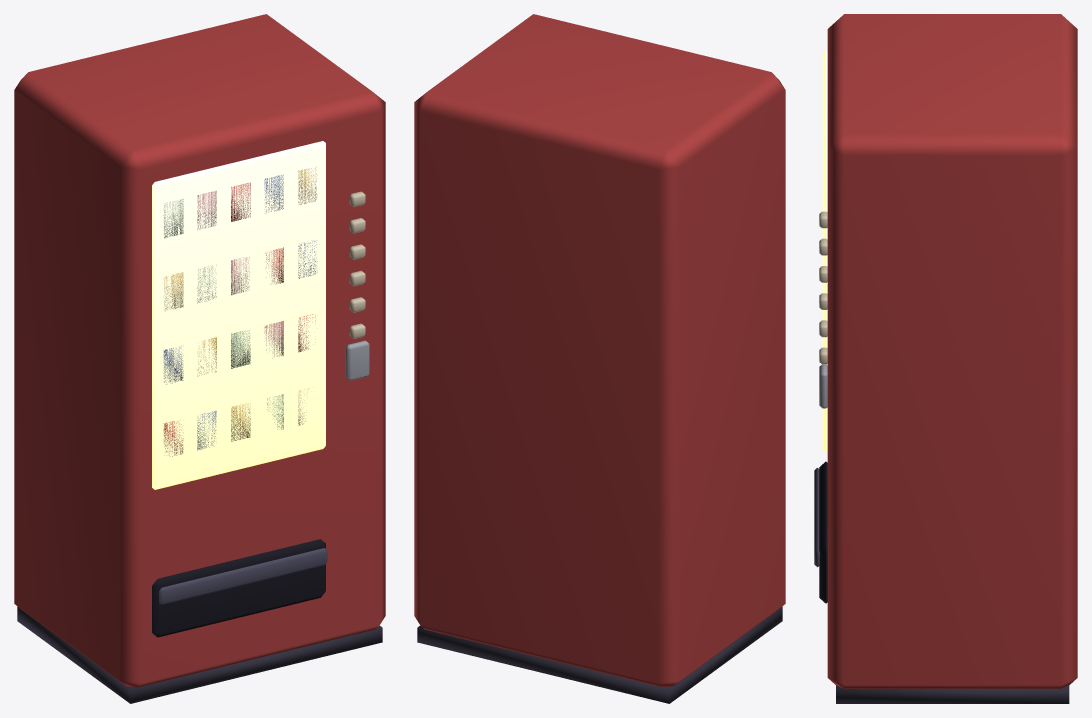
File: vending_machine.glb
3 renders of one model, left to right at view 1: azimuth 30°, elevation 25°; view 2: azimuth 150°, elevation 25°; view 3: azimuth 270°, elevation 25°, orthographic. The views are drawn at different scales.
Visible parts, largest first — view 1: vending_machine, panel; view 2: vending_machine; view 3: vending_machine, panel.
Part boxes in pixels (x1,y1,x2,y2): vending_machine: (14, 14, 385, 703); panel: (152, 141, 325, 489); vending_machine: (414, 14, 785, 703); vending_machine: (814, 14, 1077, 703); panel: (822, 51, 827, 451).
Bounding box in the file's own units: 0.95 × 1.88 × 0.79.
